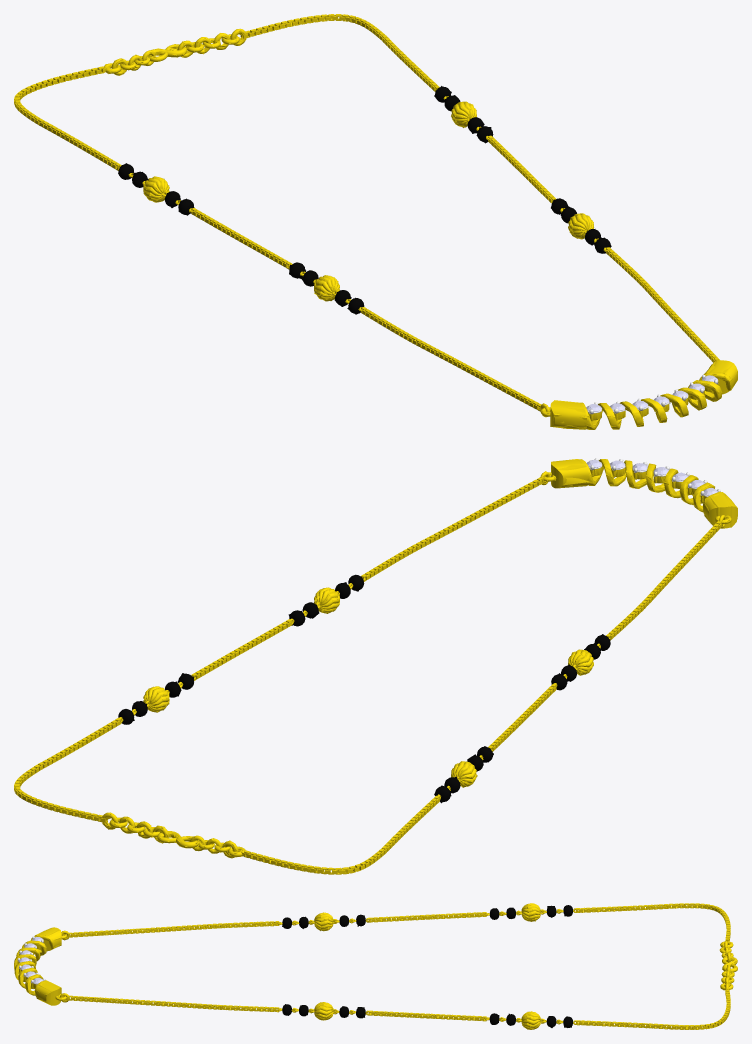
3 views of the same model, one above another, from view 1: azimuth 30°, elevation 25°; view 2: azimuth 150°, elevation 25°; view 3: azimuth 270°, elevation 25° (orthographic). The views are drawn at different scales.
Visible parts, largest first — view 1: highPolyMesh, lowPolyMesh; view 2: highPolyMesh, lowPolyMesh; view 3: highPolyMesh, lowPolyMesh.
Part boxes in pixels (x1,y1,x2,y2): highPolyMesh: (14, 14, 737, 429); lowPolyMesh: (15, 15, 737, 429); highPolyMesh: (14, 458, 737, 874); lowPolyMesh: (14, 459, 737, 874); highPolyMesh: (14, 903, 737, 1029); lowPolyMesh: (14, 903, 737, 1029).
Size of the model in its own units: 0.0528 by 0.00339 by 0.1308.
